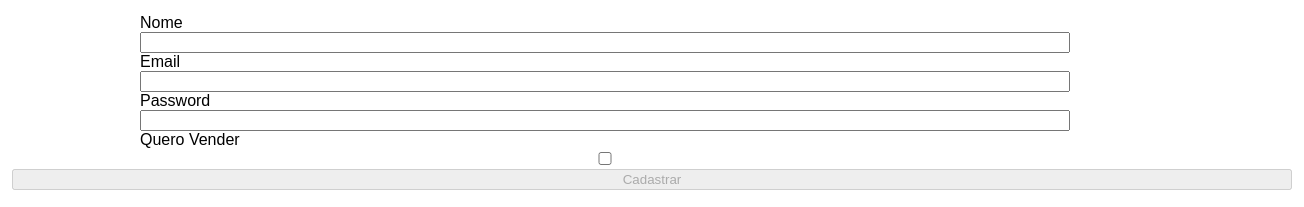
it: Testing Register Page › Testing funcionality of HTML elements
The image size is (1304, 207).
Type "Felipe" into the field with test id "signup-name" at (605, 42), box [140,32,1070,53]
Type "lipe@.lipe.com" into the field with test id "signup-email" at (605, 82), box [140,71,1070,92]
Type "12345" into the password field with test id "signup-password" at (605, 120), box [140,110,1070,131]
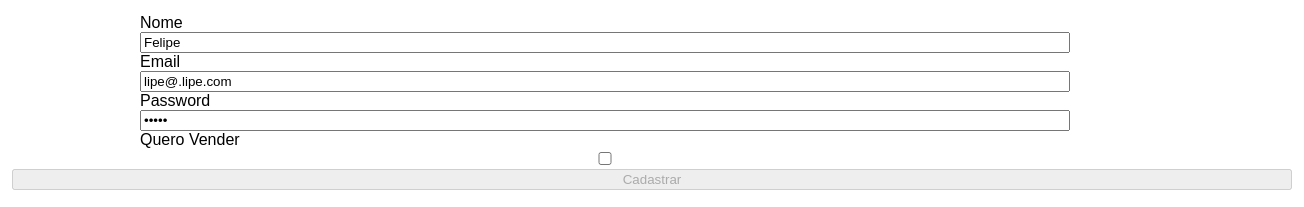
Click the checkbox with test id "signup-seller" at (605, 158), box [144,152,1066,165]
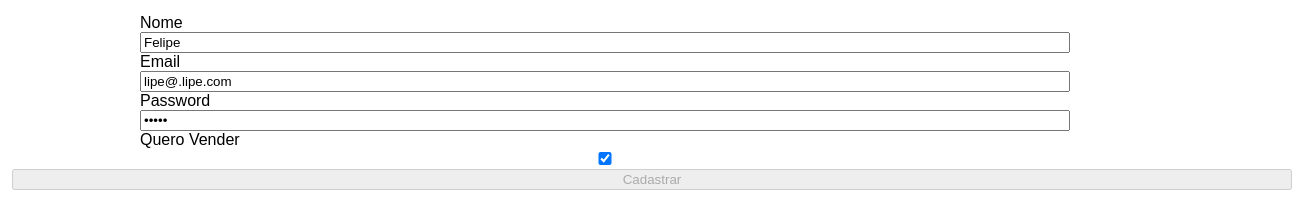
Now the checkbox with test id "signup-seller" is checked
Click the checkbox with test id "signup-seller" at (605, 158), box [144,152,1066,165]
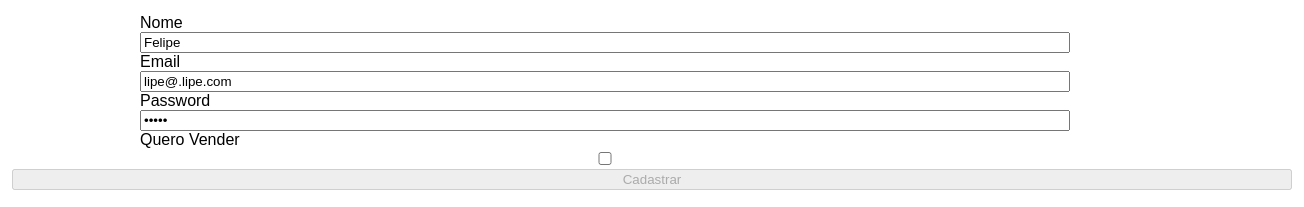
Expected: the button with test id "signup-btn" is disabled, [12,169,1292,190]
Now the checkbox with test id "signup-seller" is not checked, box [144,152,1066,165]
Replace the text in the field with test id "signup-email" with "lipe@lipe.com" at (605, 82), box [140,71,1070,92]
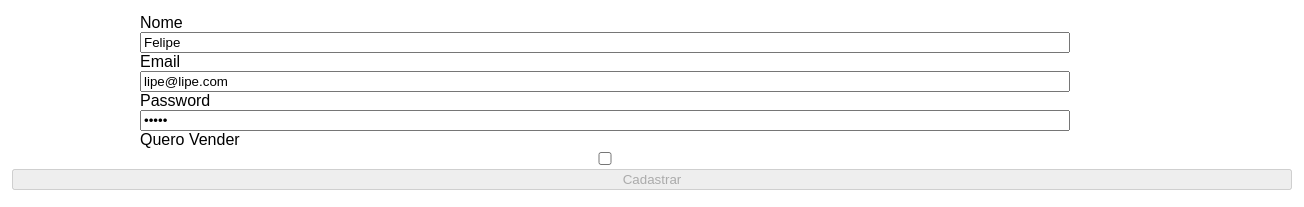
Expected: the button with test id "signup-btn" is disabled, [12,169,1292,190]
Replace the text in the field with test id "signup-name" with "Felipe Andrade" at (605, 42), box [140,32,1070,53]
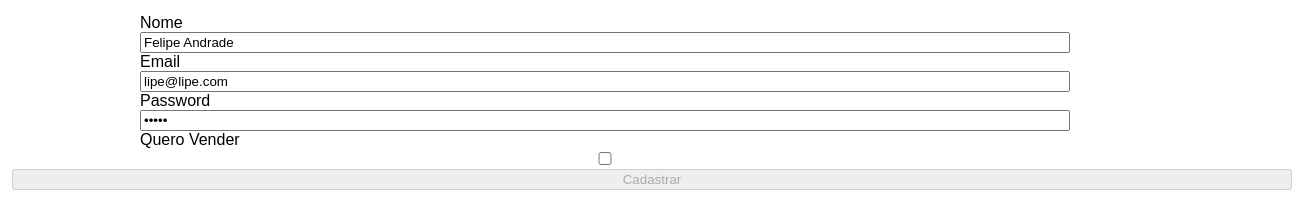
Expected: the button with test id "signup-btn" is disabled, [12,169,1292,190]
Type "123456" into the password field with test id "signup-password" at (605, 120), box [140,110,1070,131]
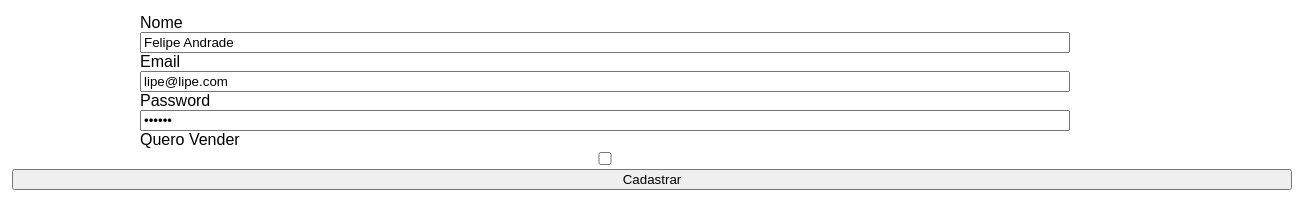
Now the button with test id "signup-btn" is enabled, box [12,169,1292,190]
